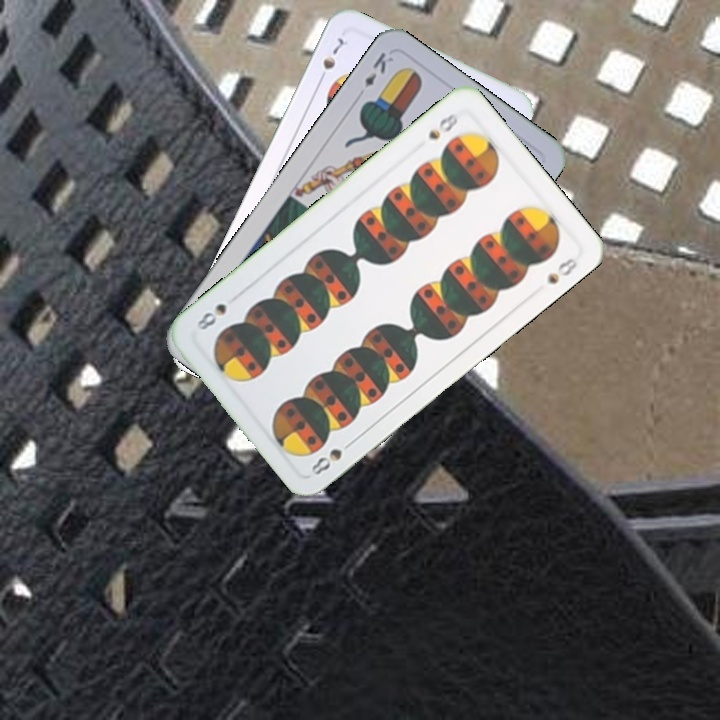EK: (360, 48, 396, 90)
S7: (314, 33, 347, 86)
S8: (306, 435, 358, 478), (424, 107, 461, 143)
